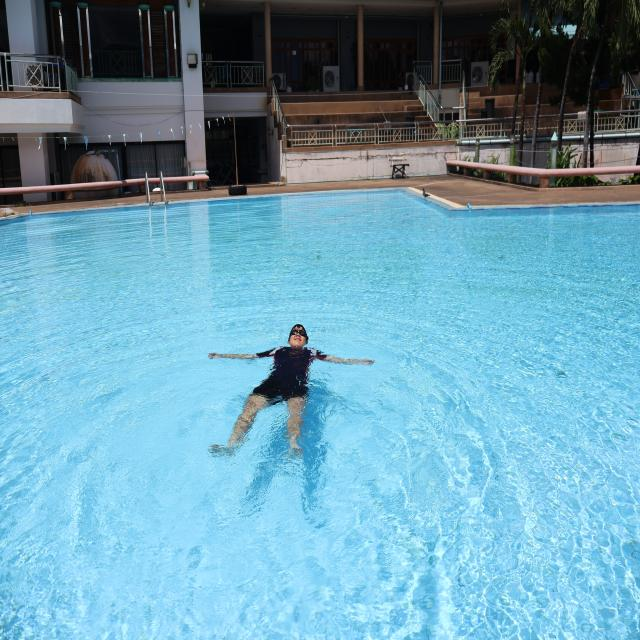Swimming: (205, 320, 376, 462)
